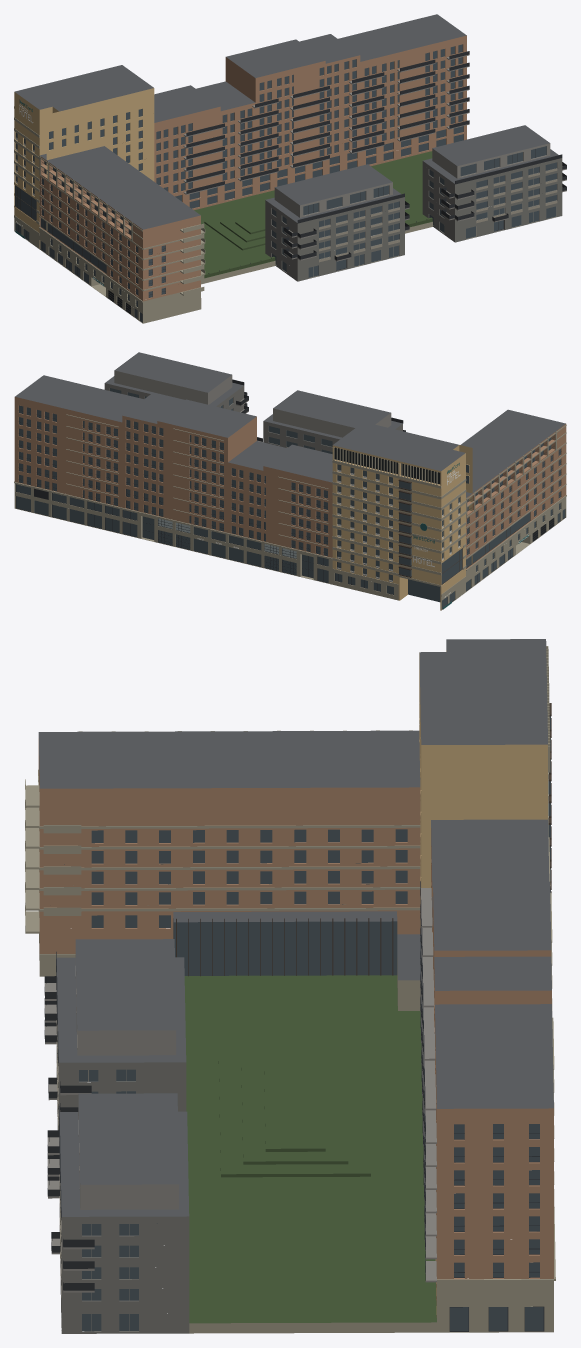
File: andreas-ensemble.glb
The picture shows the model from 3 angles, top to bottom: view 1: azimuth 30°, elevation 25°; view 2: azimuth 150°, elevation 25°; view 3: azimuth 270°, elevation 25°; orthographic projection. The views are drawn at different scales.
Visible parts, largest first — view 1: andreas-ensemble; view 2: andreas-ensemble; view 3: andreas-ensemble.
Part boxes in pixels (x1=…): andreas-ensemble: x1=14, y1=14, x2=566, y2=323; andreas-ensemble: x1=14, y1=352, x2=566, y2=610; andreas-ensemble: x1=25, y1=639, x2=555, y2=1333.
Bounding box in the file's own units: 133 × 41.01 × 70.71.
